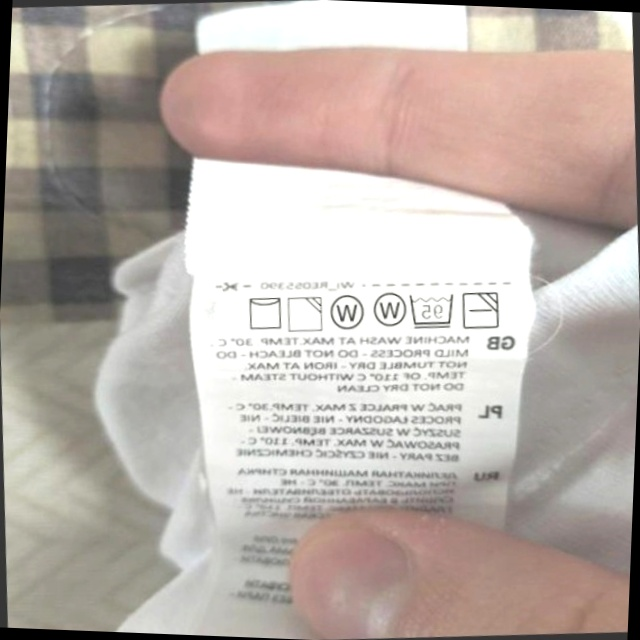95C: (406, 289, 458, 332)
dry_flat_in_shade: (460, 287, 503, 333)
line_dry: (243, 291, 286, 334)
shade_dry: (284, 292, 326, 335)
wet_clean: (327, 291, 367, 334), (369, 286, 408, 330)
